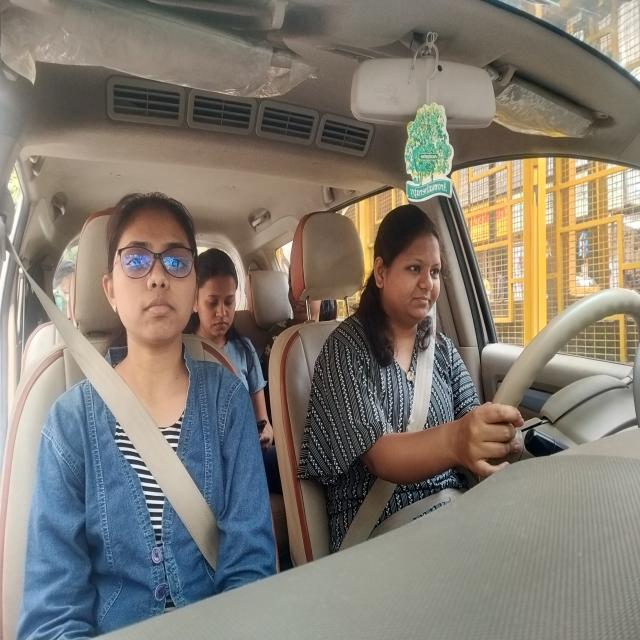person: (98, 190, 203, 360), (367, 201, 447, 328), (195, 251, 243, 339)
